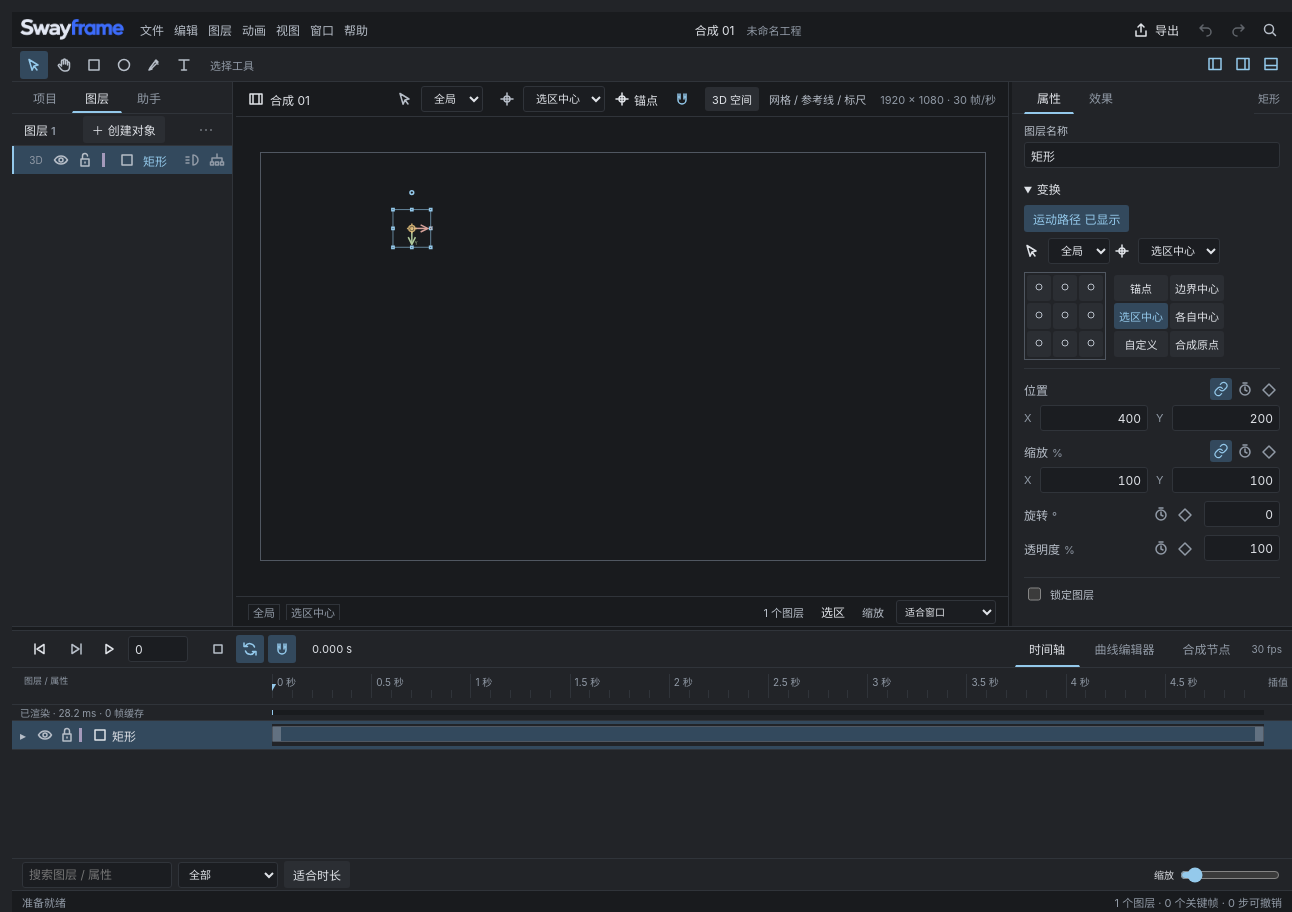
Test: side handle is single axis even with linked Inspector; live Inspector and one undo
Press the mouse on the drawing with test id "canvas": (623, 357) [261,153,985,560]
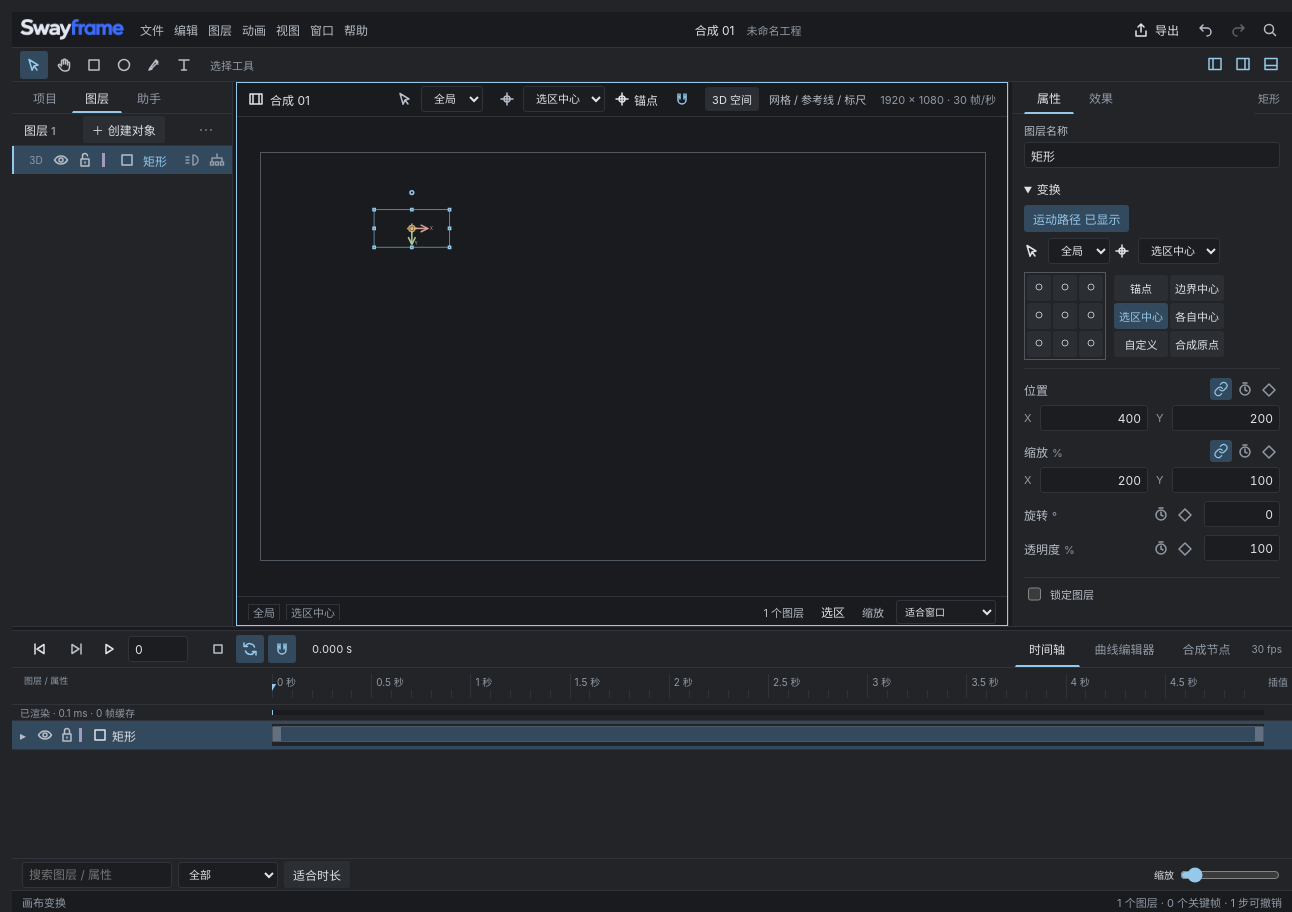
Expected: the number field labelled "缩放 Y（%）" holds "100", [1172,467,1280,493]
Now the number field labelled "缩放 X（%）" holds "200", box [1040,467,1148,493]
